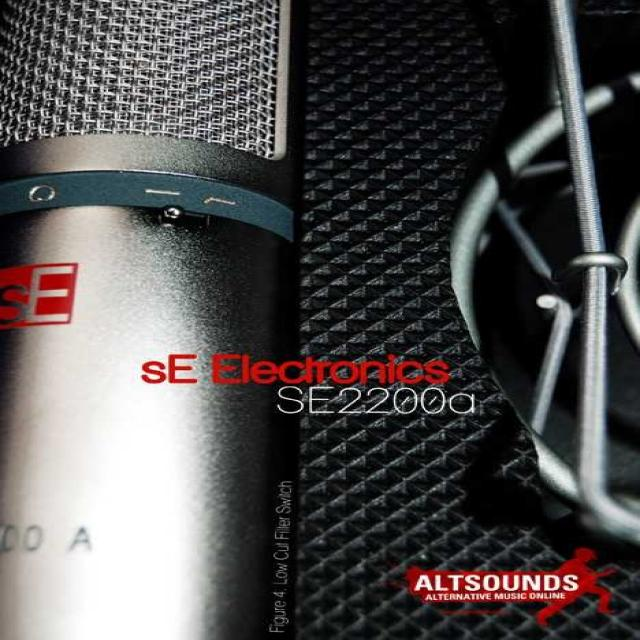microphone: (0, 0, 308, 634)
